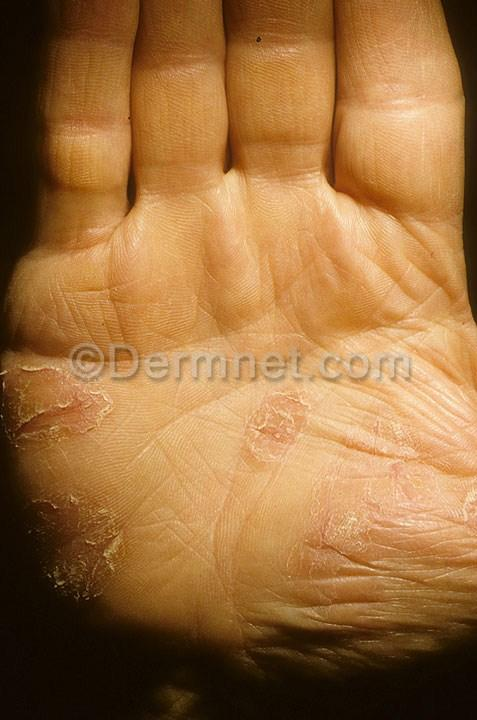Eczema: (0, 379, 166, 629), (252, 392, 354, 477)
